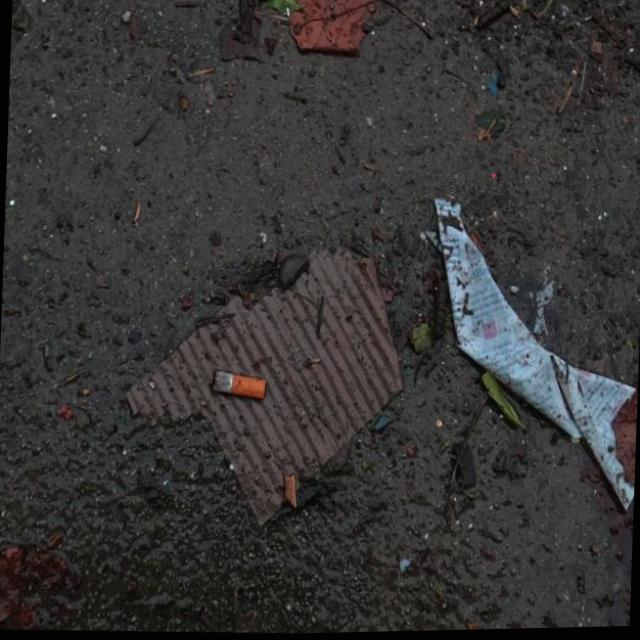Paper: (418, 188, 640, 521)
